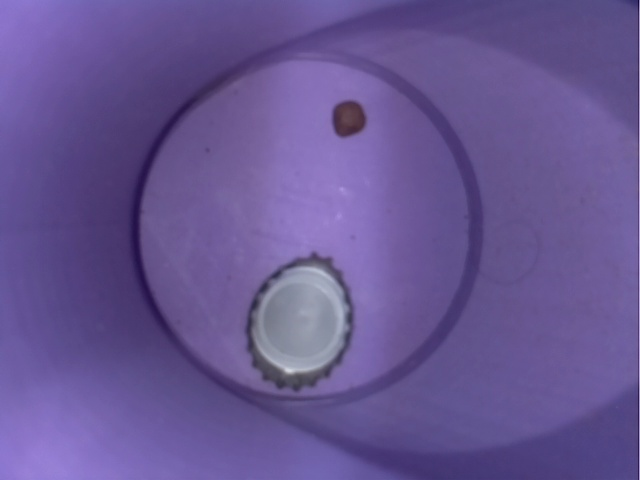capsule: (240, 245, 361, 399)
croquette: (320, 94, 382, 140)
